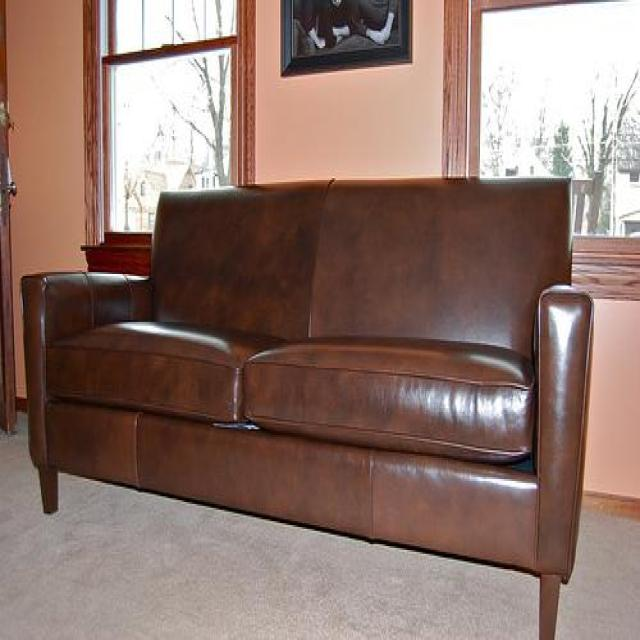sofa: (17, 165, 594, 640)
